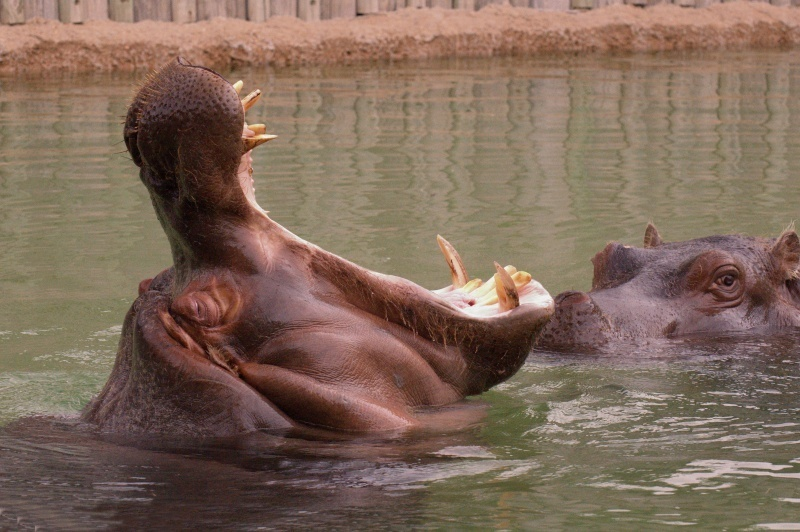hipopotamo: (23, 51, 560, 471), (547, 214, 800, 365)
